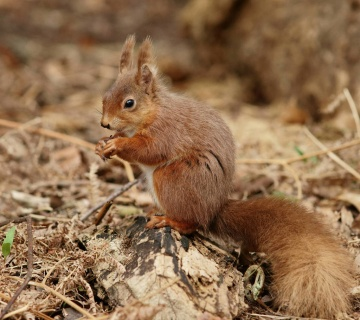Squirrel: (96, 34, 359, 315)
